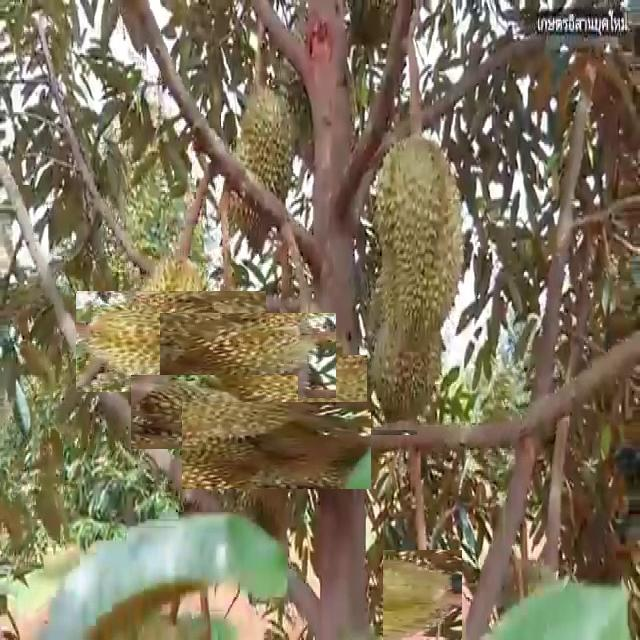durian: (362, 130, 472, 344), (98, 268, 244, 414), (248, 325, 388, 465), (208, 376, 346, 515), (182, 290, 313, 421), (154, 352, 274, 472), (222, 80, 298, 266), (368, 272, 453, 430), (377, 554, 466, 640)
